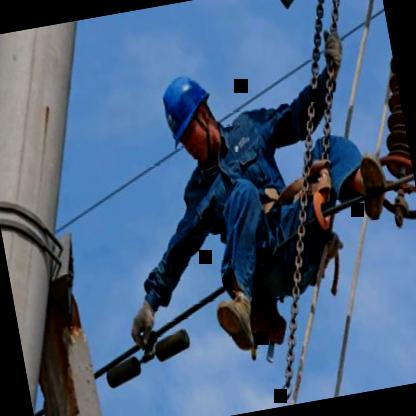helmet: (150, 60, 228, 174)
